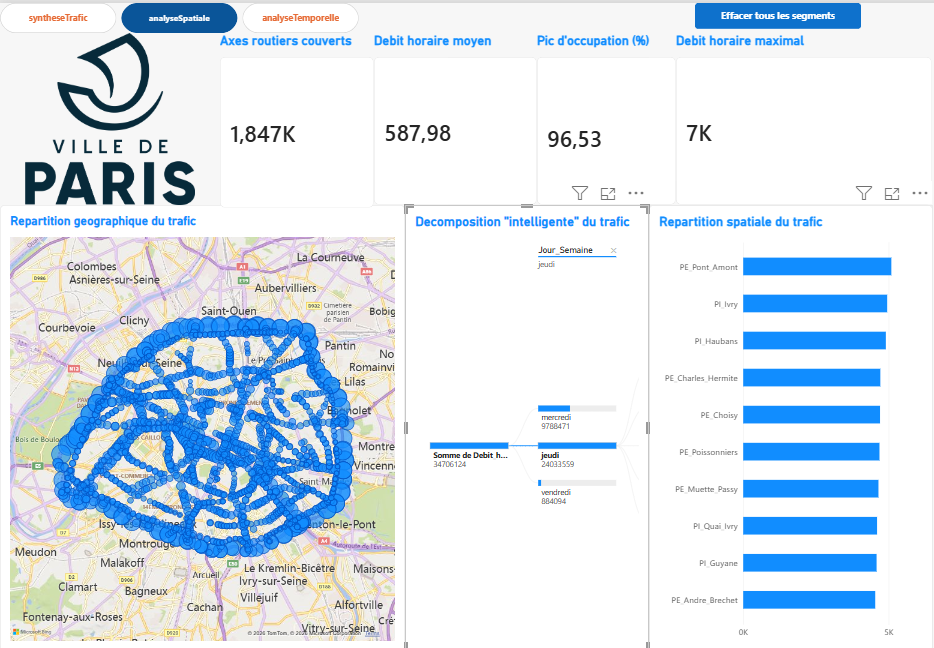

What the dashboard file says about the page in this screenshot:
{"tool":"powerbi","page":{"name":"analyseSpatiale","canvas":[1920,1080],"ordinal":1},"visuals":[{"type":"cardVisual","title":"Debit horaire moyen","fields":{"Data":["Avg(paristraficbd comptages-routiers.Debit_horaire)"]},"box":[623.3,50,271.7,286.7],"z":0},{"type":"cardVisual","title":"Pic d''occupation (%)","fields":{"Data":["Max(paristraficbd comptages-routiers.Taux_d_occupation)"]},"box":[895,50,231.7,286.7],"z":1000},{"type":"image","box":[0,50,366.7,286.7],"z":2000},{"type":"cardVisual","title":"Axes routiers couverts","fields":{"Data":["Count(paristraficbd comptages-routiers.Identifiant_arc)"]},"box":[366.7,50,256.7,286.7],"z":3000},{"type":"cardVisual","title":"Debit horaire maximal","fields":{"Data":["Max(paristraficbd comptages-routiers.Debit_horaire)"]},"box":[1126.7,50,426.7,286.7],"z":4000},{"type":"map","title":"Repartition geographique du trafic","fields":{"Size":["Sum(paristraficbd comptages-routiers.Debit_horaire)"],"X":["paristraficbd comptages-routiers.longitude"],"Y":["paristraficbd comptages-routiers.latitude"]},"box":[0,337.1,691.4,742.9],"z":5000},{"type":"clusteredBarChart","title":"Repartition spatiale du trafic","fields":{"Category":["paristraficbd comptages-routiers.Libelle"],"Y":["Avg(paristraficbd comptages-routiers.Debit_horaire)"]},"box":[1198.6,337.1,307.1,742.9],"z":6000},{"type":"pageNavigator","box":[0,0,600,50],"z":7000},{"type":"actionButton","box":[1158.3,0,276.7,43.3],"z":8000},{"type":"decompositionTreeVisual","title":"Decomposition \"intelligente\" du trafic","fields":{"Analyze":["Sum(paristraficbd comptages-routiers.Debit_horaire)"],"ExplainBy":["paristraficbd comptages-routiers.Jour_Semaine","paristraficbd comptages-routiers.Etat_trafic","paristraficbd comptages-routiers.Libelle"]},"box":[691.4,337.1,507.1,742.9],"z":9000}]}

Visuals, with their boxes on the page's 1920x1080 design canvas (x1, y1, x2, y2). These are canvas units, not pixel positions in the 934x648 screenshot, which may show the page scaled, cropped or inside an application window:
"Debit horaire moyen" cardVisual: 623,50,895,337
"Pic d''occupation (%)" cardVisual: 895,50,1127,337
image: 0,50,367,337
"Axes routiers couverts" cardVisual: 367,50,623,337
"Debit horaire maximal" cardVisual: 1127,50,1553,337
"Repartition geographique du trafic" map: 0,337,691,1080
"Repartition spatiale du trafic" clusteredBarChart: 1199,337,1506,1080
pageNavigator: 0,0,600,50
actionButton: 1158,0,1435,43
"Decomposition "intelligente" du trafic" decompositionTreeVisual: 691,337,1198,1080
